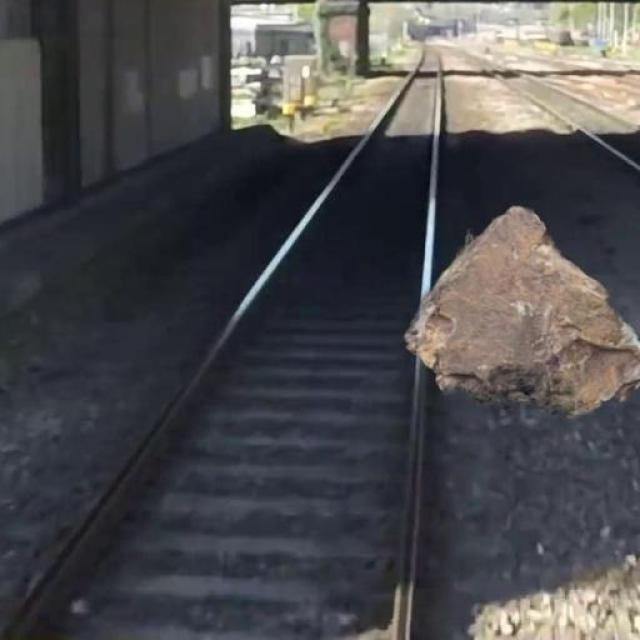Stone: (403, 201, 640, 418)
